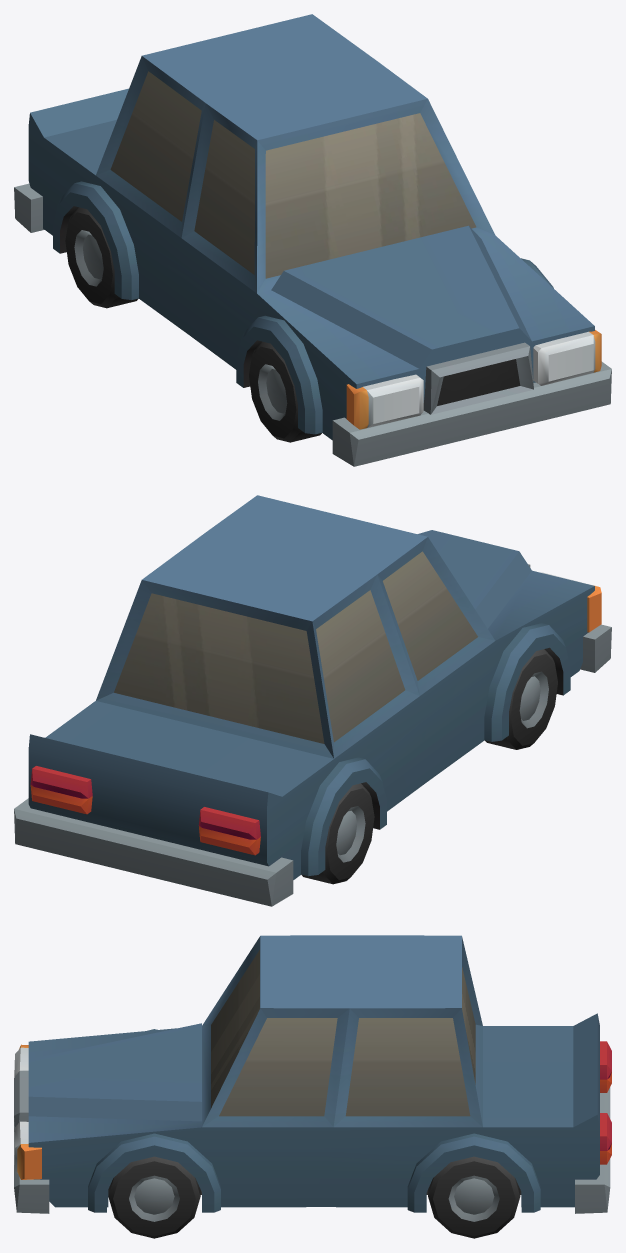
Rendered from car_sedan.gltf.
3 views of the same model, one above another, from view 1: azimuth 30°, elevation 25°; view 2: azimuth 150°, elevation 25°; view 3: azimuth 270°, elevation 25° (orthographic). The views are drawn at different scales.
Parts seen in each view (by area): view 1: car_sedan, car_sedan_wheel_rear_right, car_sedan_wheel_front_right; view 2: car_sedan, car_sedan_wheel_rear_right, car_sedan_wheel_front_right; view 3: car_sedan, car_sedan_wheel_front_left, car_sedan_wheel_rear_left.
Boxes of the visible parts, box(x1,y1,x2,y2) form: car_sedan: box(14, 14, 611, 466); car_sedan_wheel_rear_right: box(65, 207, 138, 308); car_sedan_wheel_front_right: box(249, 341, 321, 442); car_sedan: box(14, 495, 611, 906); car_sedan_wheel_rear_right: box(301, 783, 374, 884); car_sedan_wheel_front_right: box(485, 649, 557, 749); car_sedan: box(14, 935, 611, 1213); car_sedan_wheel_front_left: box(108, 1156, 200, 1238); car_sedan_wheel_rear_left: box(428, 1156, 520, 1238).
Size of the model in its own units: 0.419 by 0.3688 by 0.9381.
1 material, 1 textured.
